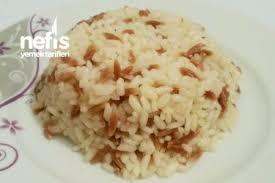pirinc_pilavi: (32, 7, 240, 178)
